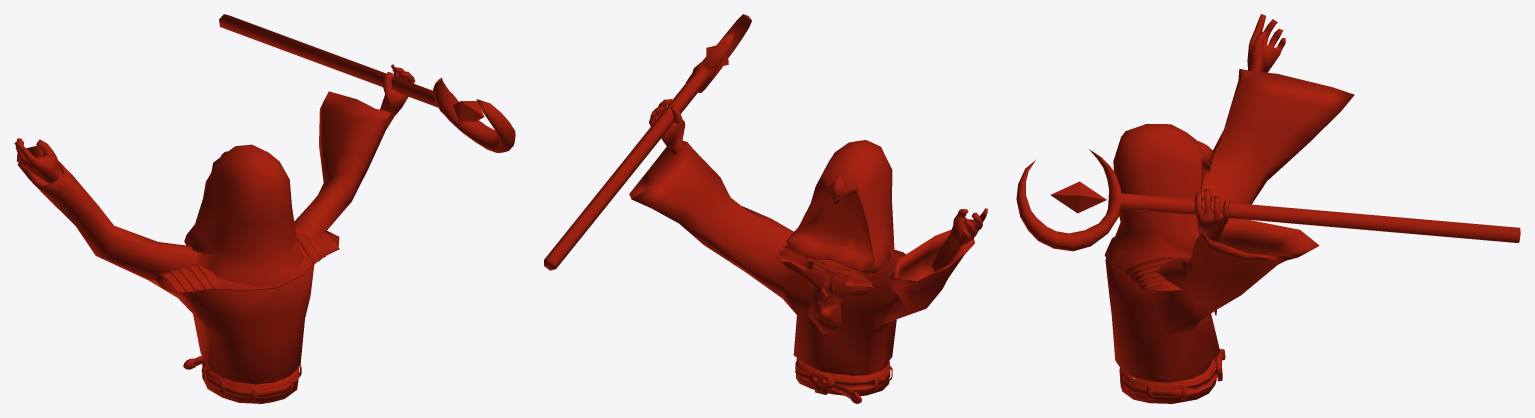
Rendered from top_000035.obj.
The picture shows the model from 3 angles, left to right: view 1: azimuth 30°, elevation 25°; view 2: azimuth 150°, elevation 25°; view 3: azimuth 270°, elevation 25°; orthographic projection. The views are drawn at different scales.
Parts seen in each view (by area): view 1: LowPoly_Warlock.000_Plane.005; view 2: LowPoly_Warlock.000_Plane.005; view 3: LowPoly_Warlock.000_Plane.005.
Part boxes in pixels (box(x1,y1,x2,y2)): LowPoly_Warlock.000_Plane.005: box(14, 14, 515, 403); LowPoly_Warlock.000_Plane.005: box(544, 14, 987, 403); LowPoly_Warlock.000_Plane.005: box(1016, 14, 1520, 403).
Size of the model in its own units: 1.82 by 1.3 by 1.88.
